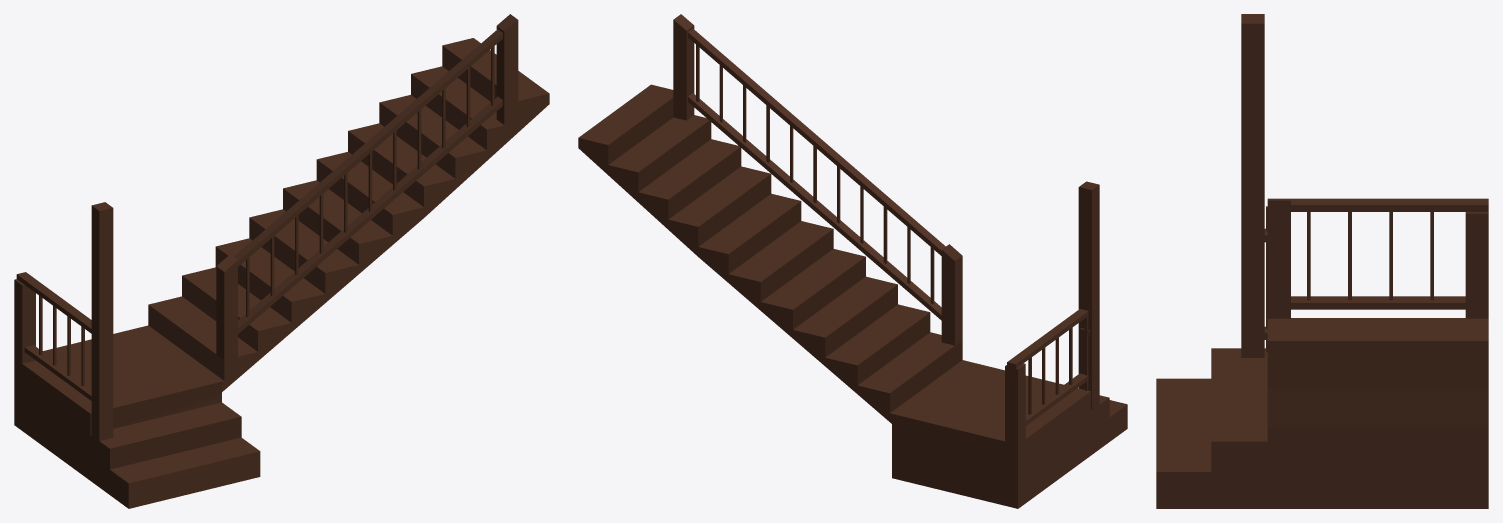
Rendered from BasementStairsUV.fbx.
3 renders of one model, left to right at view 1: azimuth 30°, elevation 25°; view 2: azimuth 150°, elevation 25°; view 3: azimuth 270°, elevation 25°, orthographic. The views are drawn at different scales.
Parts seen in each view (by area): view 1: polySurface61; view 2: polySurface61; view 3: polySurface61.
Part boxes in pixels (<box>): polySurface61: <box>14,14,549,508</box>; polySurface61: <box>578,14,1127,508</box>; polySurface61: <box>1156,14,1488,508</box>.
Bounding box in the file's own units: 782 × 580 × 337.
